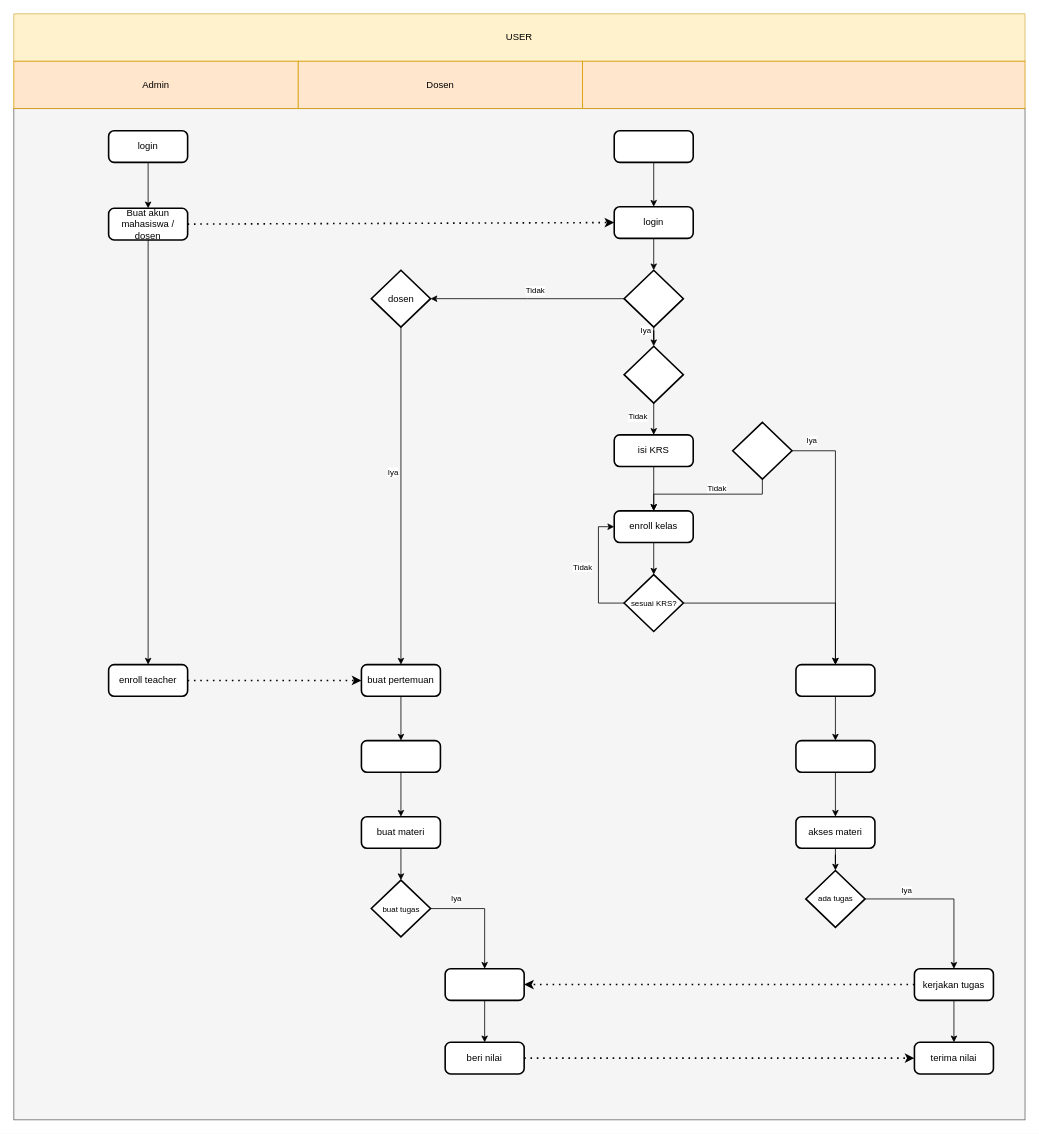
Some shapes in this 1039 by 1134 pixel diagram are drawn without their labels. The shapes that lost their labels are listed below. From the top down, each one's box as (x1, y1, x2, y2) in pixels, then its label:
(582, 60, 1025, 109): Mahasiswa
(613, 130, 694, 163): daftar akun
(623, 269, 684, 327): mahassiswa?
(623, 345, 684, 403): sudah mengisi krs?
(732, 421, 792, 480): sudah enroll kelas?
(795, 663, 875, 697): akses pertemuan kelas
(360, 739, 441, 773): buka absensi
(795, 739, 875, 773): isi absensi
(444, 968, 525, 1001): terima jawaban
